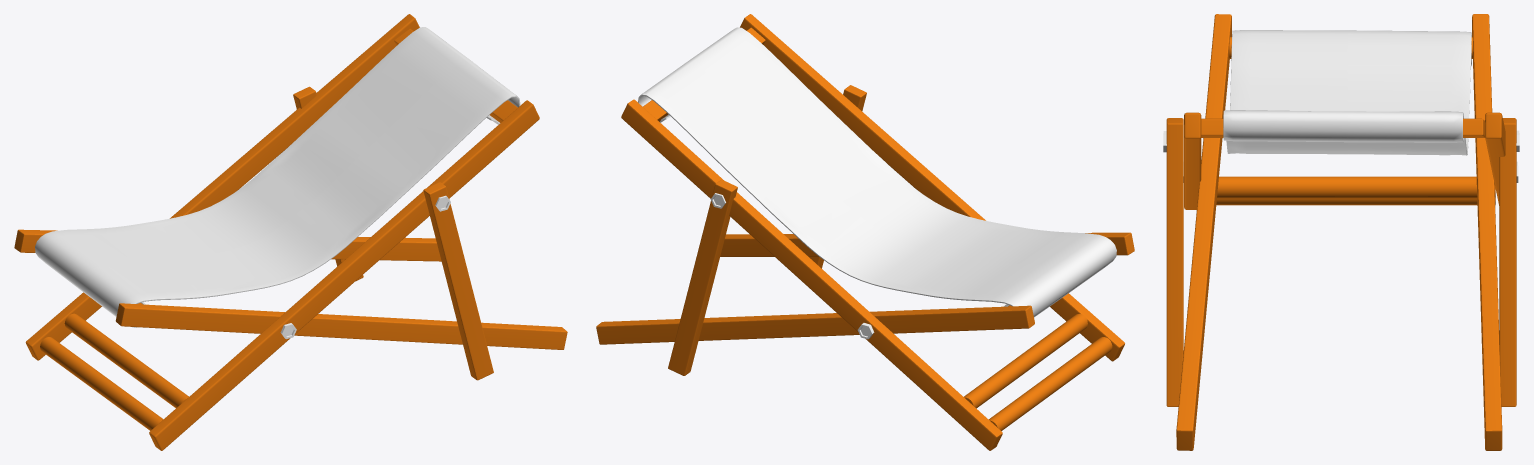
File: sandchair.fbx
The picture shows the model from 3 angles, left to right: view 1: azimuth 30°, elevation 25°; view 2: azimuth 150°, elevation 25°; view 3: azimuth 270°, elevation 25°; orthographic projection. The views are drawn at different scales.
Visible parts, largest first — view 1: polySurface29; view 2: polySurface29; view 3: polySurface29.
Boxes of the visible parts, x1,y1,x2,y2 form: polySurface29: (14, 14, 567, 450); polySurface29: (596, 14, 1134, 450); polySurface29: (1163, 14, 1519, 450).
Bounding box in the file's own units: 102 × 57.62 × 56.82.
